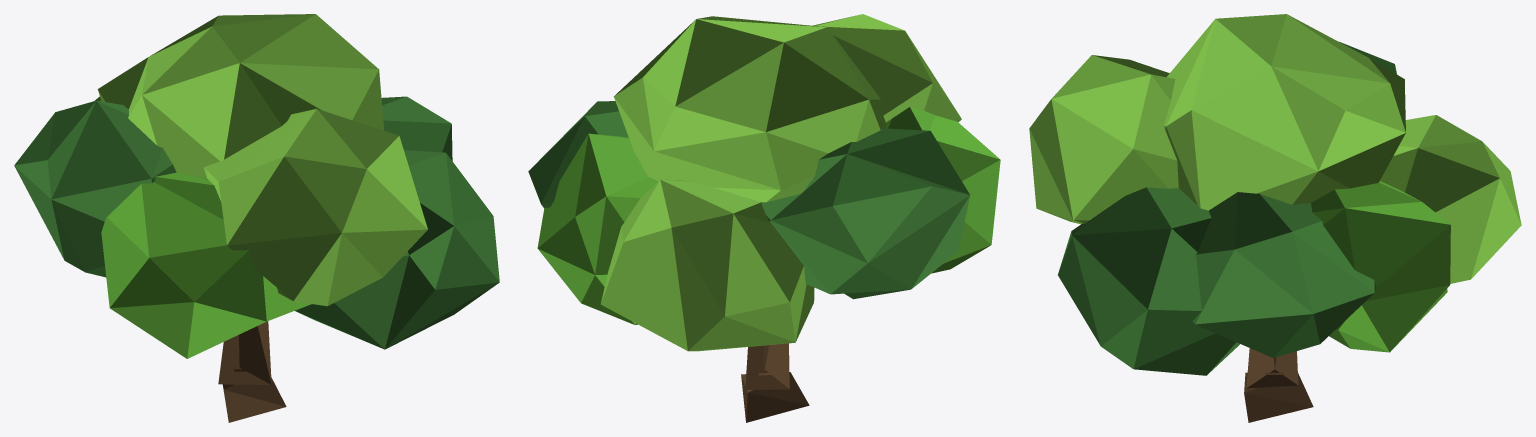
Rendered from tree_oak_3_lod1.glb.
The picture shows the model from 3 angles, left to right: view 1: azimuth 30°, elevation 25°; view 2: azimuth 150°, elevation 25°; view 3: azimuth 270°, elevation 25°; orthographic projection.
Visible parts, largest first — view 1: tree_oak_3_lod1; view 2: tree_oak_3_lod1; view 3: tree_oak_3_lod1.
Boxes of the visible parts, x1,y1,x2,y2 form: tree_oak_3_lod1: (14,14,499,422); tree_oak_3_lod1: (528,14,1000,422); tree_oak_3_lod1: (1029,14,1521,422).
Bounding box in the file's own units: 8.08 × 7.02 × 8.2.
